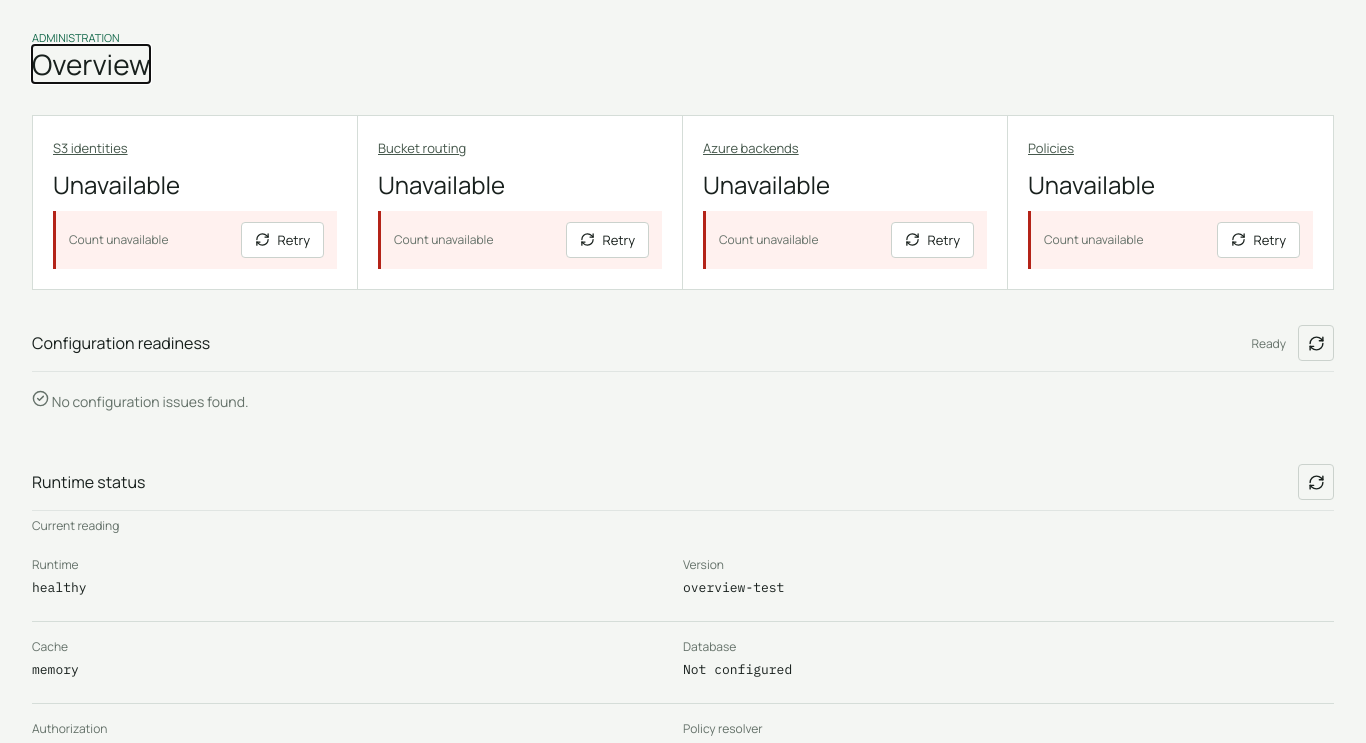
Scenario: OverviewPage interactions › shows unavailable counts and retries the summary request
Check: the text "Unavailable" below "S3 identities" is shown, box [53, 168, 180, 201]
Click the button "Retry" below "S3 identities": {"x": 282, "y": 240} [240, 222, 324, 258]
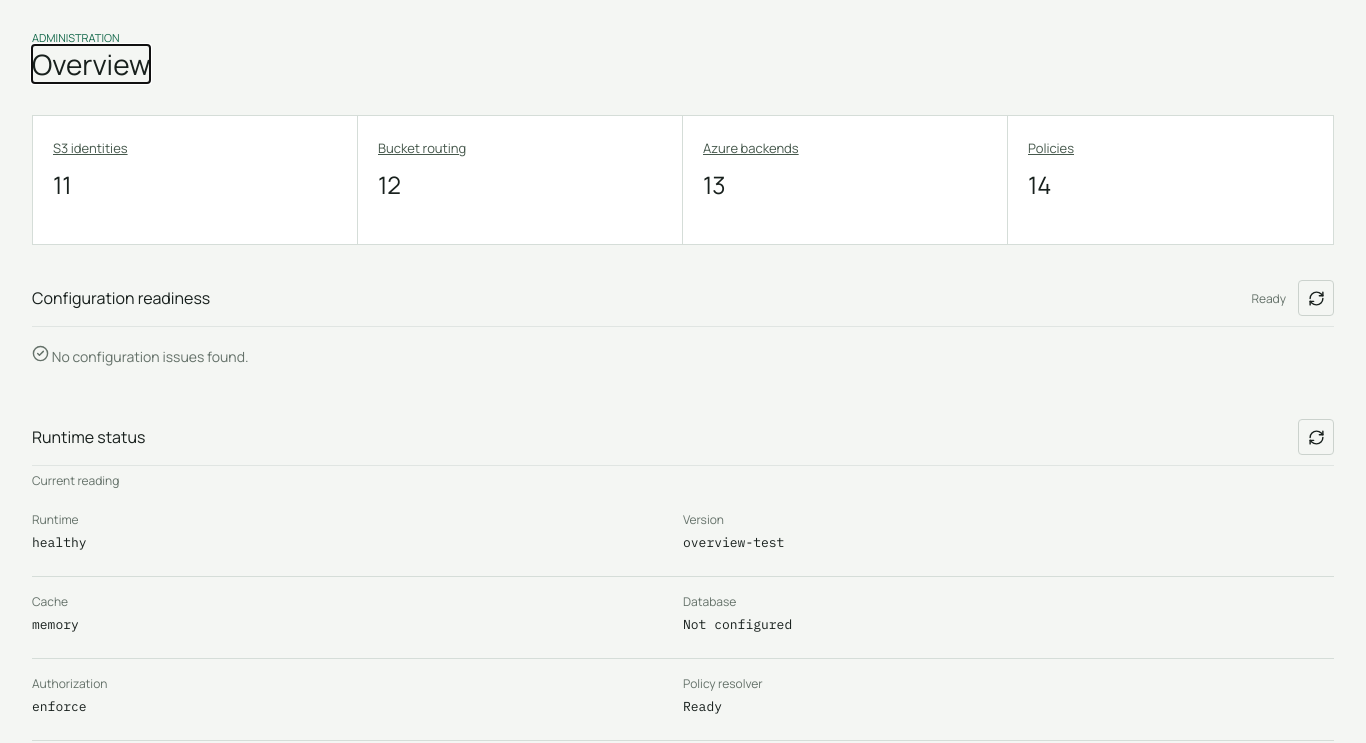
Check: the text "11" is shown, box [53, 168, 72, 201]
